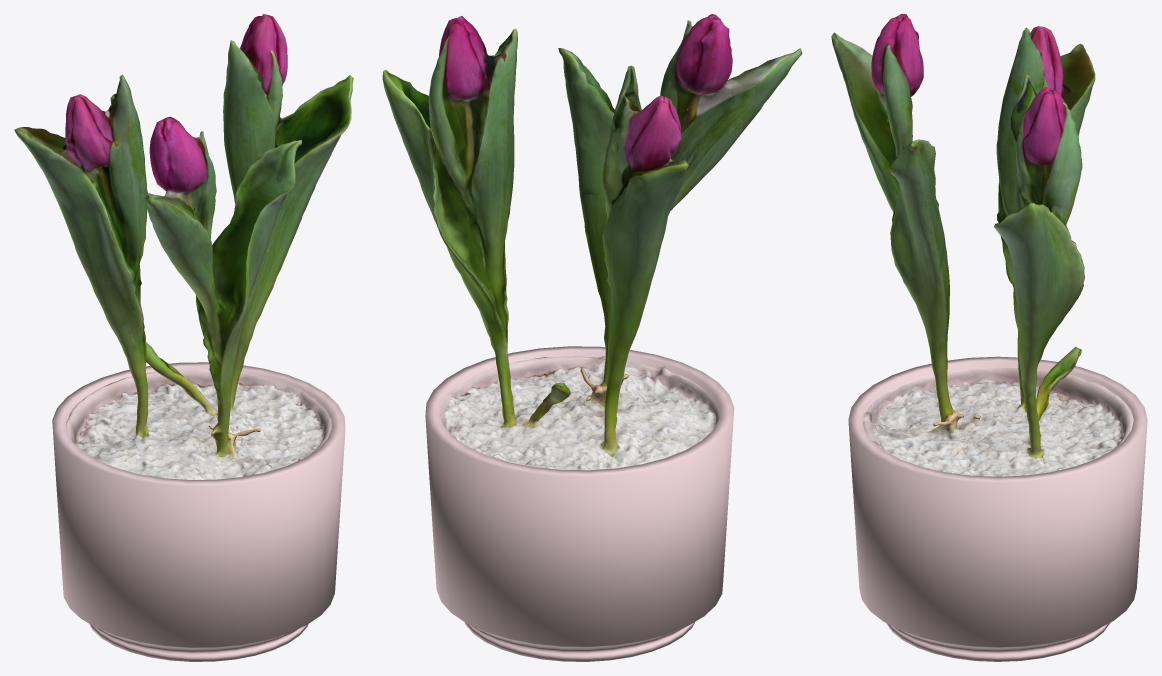
Rendered from arreglo4.glb.
3 renders of one model, left to right at view 1: azimuth 30°, elevation 25°; view 2: azimuth 150°, elevation 25°; view 3: azimuth 270°, elevation 25°, orthographic. The views are drawn at different scales.
Parts seen in each view (by area): view 1: g0, Circle; view 2: g0, Circle; view 3: g0, Circle.
Boxes of the visible parts, left/top/right/bottom form: g0: left=14, top=14, right=353, bottom=479; Circle: left=52, top=362, right=345, bottom=661; g0: left=382, top=14, right=802, bottom=470; Circle: left=425, top=346, right=734, bottom=661; g0: left=831, top=14, right=1133, bottom=476; Circle: left=848, top=356, right=1147, bottom=661.
Bounding box in the file's own units: 0.2299 × 0.3952 × 0.1972.
2 materials, 2 textured.
